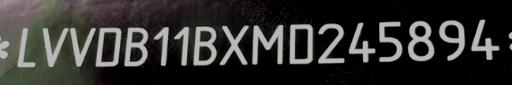letter: (248, 23, 286, 66), (468, 16, 502, 63), (312, 21, 346, 66), (346, 19, 378, 64), (404, 18, 436, 61), (436, 19, 468, 62), (218, 23, 250, 66), (376, 19, 404, 62), (286, 22, 314, 65), (190, 23, 218, 66), (68, 25, 96, 68), (94, 26, 122, 69), (41, 26, 69, 69), (123, 25, 149, 68), (16, 25, 38, 68), (170, 24, 190, 67), (151, 25, 169, 66)
